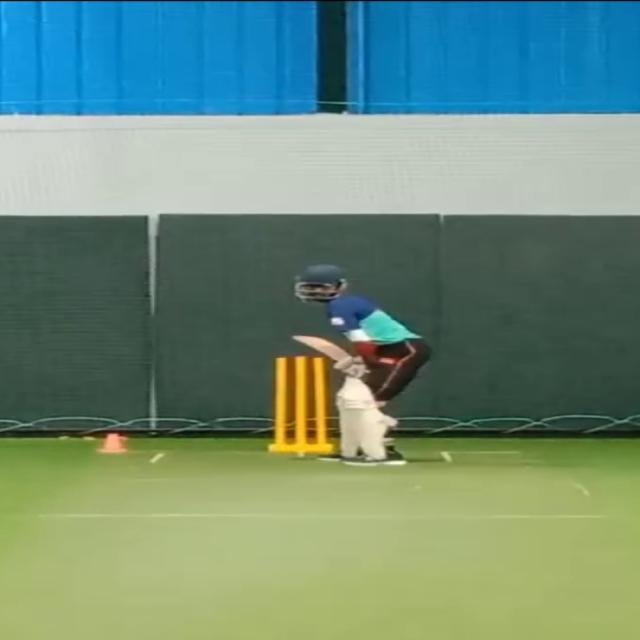stump: (263, 349, 332, 457)
